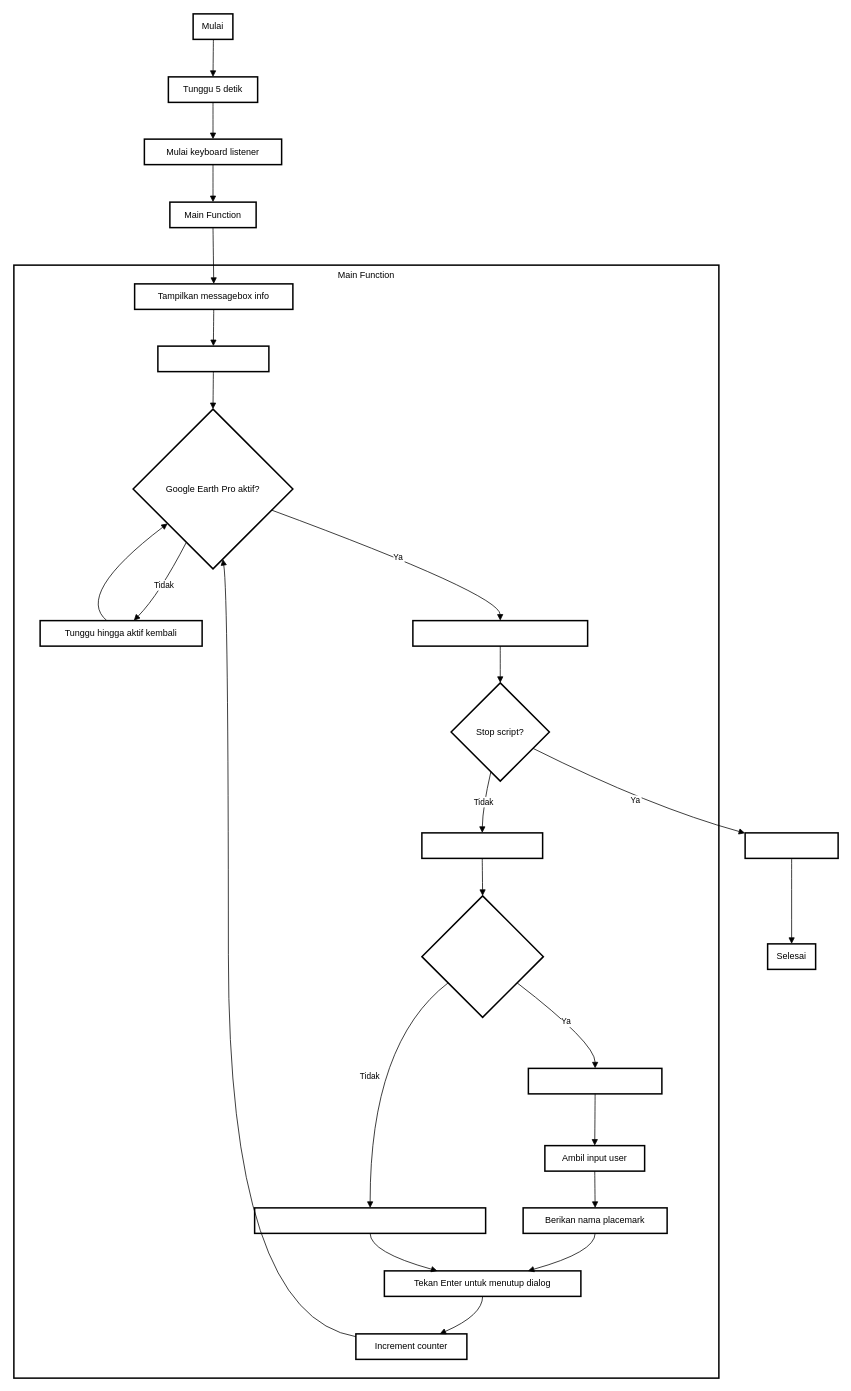
This 851x1391 diagram has some shape labels left out. The shapes that lost their labels are listed below. From the top down, each one's centre as x and y in pixels, then its label:
At point (213, 358): "Set target position".
At point (500, 633): "Tunggu klik kanan atau tengah".
At point (482, 845): "Tambahkan penanda".
At point (791, 845): "Hentikan script".
At point (482, 956): "Manual naming?".
At point (594, 1080): "Tampilkan input dialog".
At point (370, 1220): "Berikan nama placemark dengan counter".
